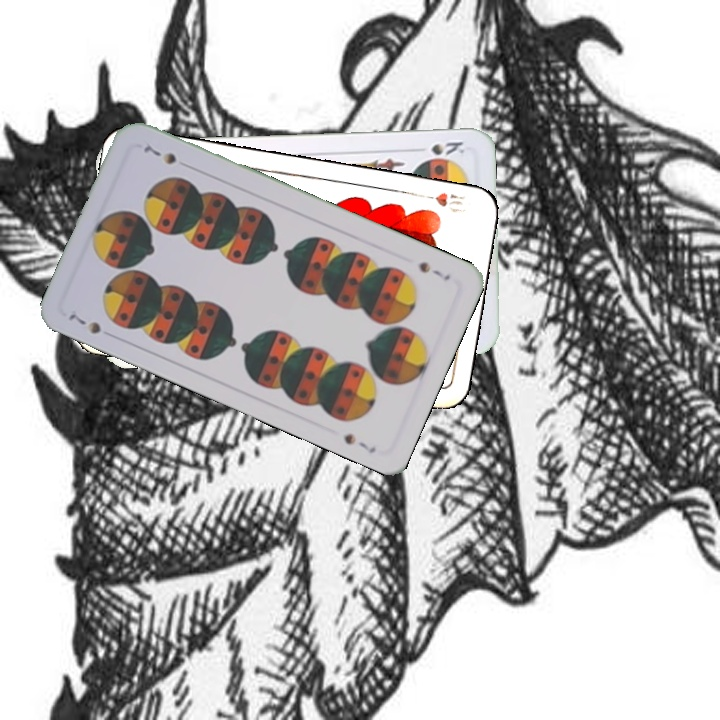H10: (414, 188, 469, 215)
S7: (64, 309, 104, 337), (414, 257, 453, 283)
SK: (410, 137, 467, 158)
